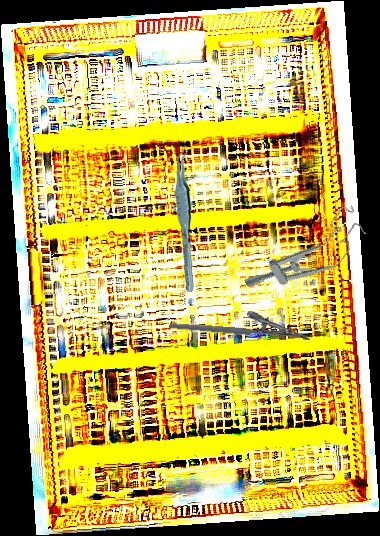Needle Holder: (169, 303, 312, 342)
Speculum: (238, 201, 375, 313)
Tissue Forceps: (169, 146, 202, 293)
